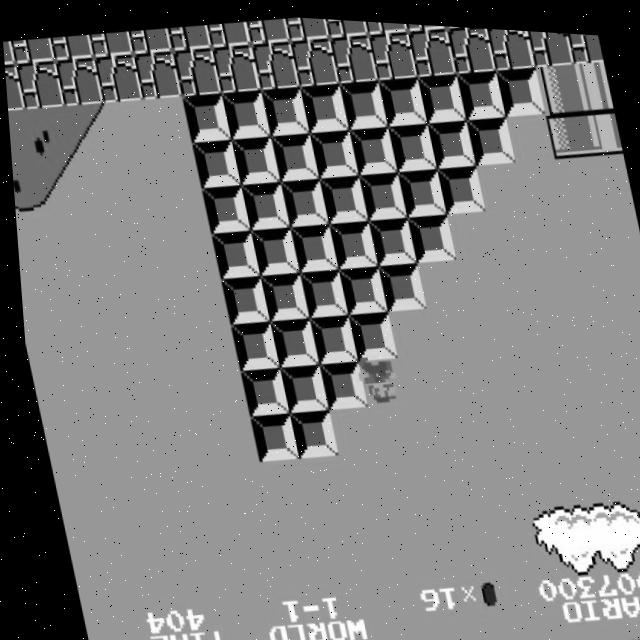11- little_mario: (350, 348, 402, 405)
14- pipe: (534, 55, 584, 108), (574, 53, 612, 105)
15- pipe_head: (543, 101, 593, 154), (583, 98, 622, 150)
17- undestructible_block: (407, 21, 457, 74), (367, 25, 417, 78), (328, 28, 378, 81), (289, 32, 339, 85), (250, 36, 300, 89), (211, 39, 261, 92), (171, 43, 221, 96), (132, 47, 182, 100), (93, 51, 143, 104), (14, 58, 64, 111), (54, 54, 103, 108), (446, 21, 496, 70), (486, 23, 535, 66), (525, 24, 574, 63), (245, 13, 291, 43), (206, 17, 252, 47), (88, 28, 134, 58), (167, 21, 212, 51), (128, 24, 173, 54), (49, 32, 94, 62), (10, 36, 55, 66), (566, 26, 604, 58), (285, 13, 330, 39), (4, 63, 25, 115), (324, 15, 369, 36), (364, 17, 409, 32), (2, 41, 16, 70), (403, 19, 447, 28)
9- hard_block: (464, 108, 514, 162), (377, 70, 427, 124), (364, 210, 414, 264), (304, 309, 354, 363), (259, 81, 309, 135), (228, 130, 278, 184), (189, 134, 239, 188), (495, 59, 545, 112), (455, 63, 505, 116), (434, 158, 484, 211), (425, 112, 475, 165), (416, 67, 466, 120), (403, 207, 453, 260), (386, 116, 436, 169), (337, 74, 387, 127), (343, 306, 393, 359), (325, 214, 375, 267), (307, 123, 357, 176), (298, 78, 348, 131), (313, 355, 363, 408), (286, 218, 336, 271), (268, 127, 318, 180), (274, 358, 324, 411), (265, 313, 315, 366), (247, 222, 297, 275), (219, 85, 269, 138), (234, 362, 284, 415), (225, 317, 275, 370), (207, 226, 257, 279), (180, 89, 230, 142), (347, 119, 396, 173), (395, 162, 445, 214), (373, 257, 423, 309), (356, 166, 406, 218), (334, 261, 384, 313), (316, 169, 366, 221), (295, 265, 345, 317), (277, 173, 327, 225), (282, 405, 332, 457), (255, 268, 305, 320), (238, 177, 288, 229), (243, 408, 293, 460), (216, 272, 266, 324), (199, 181, 248, 233)
